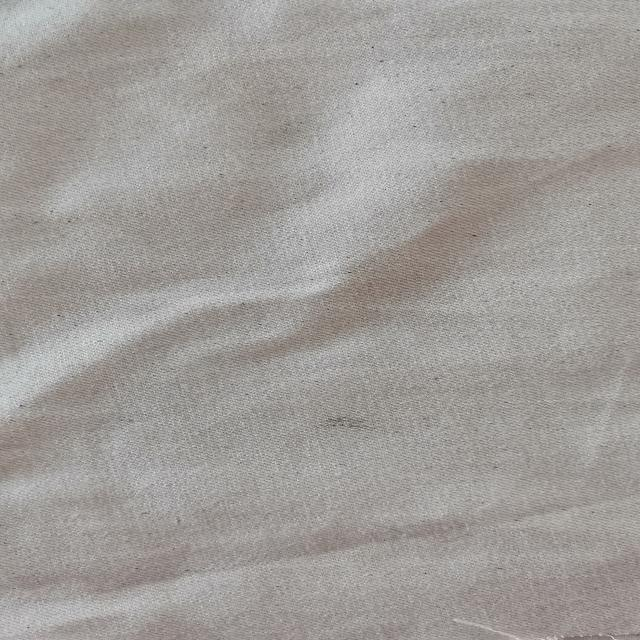taaaches: (308, 405, 397, 440)
